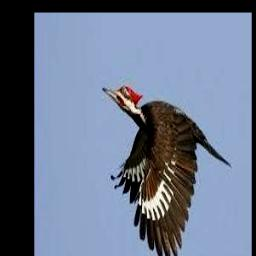Woodpecker: (103, 85, 231, 256)
